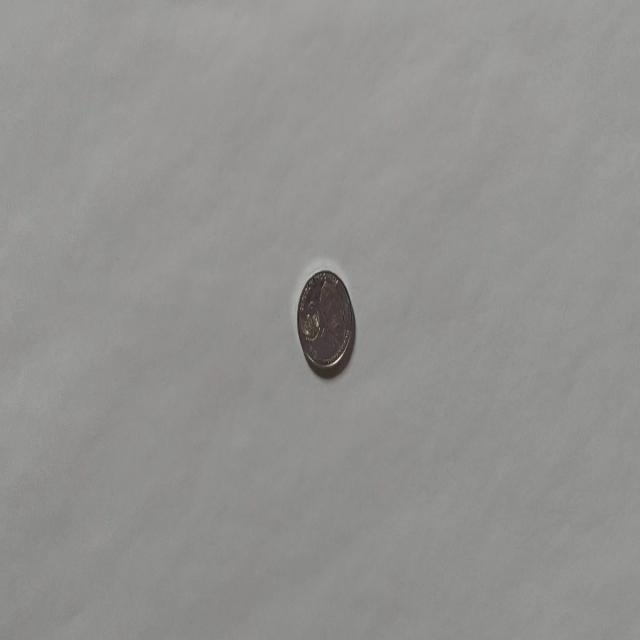dua ratus rupiah: (296, 268, 354, 374)
